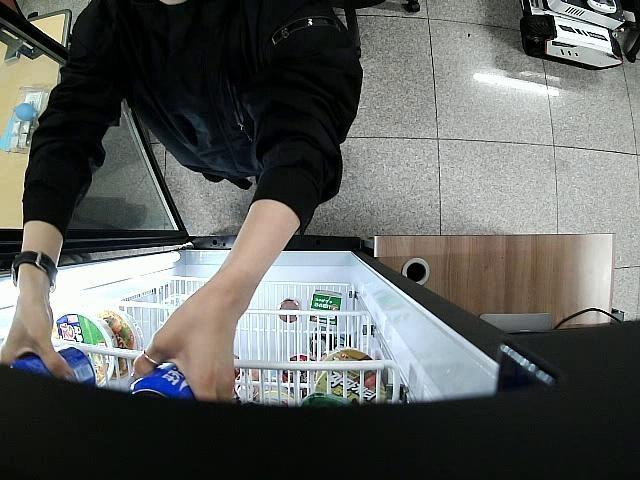13_pocariSweat: (10, 346, 99, 388), (128, 362, 196, 402)
